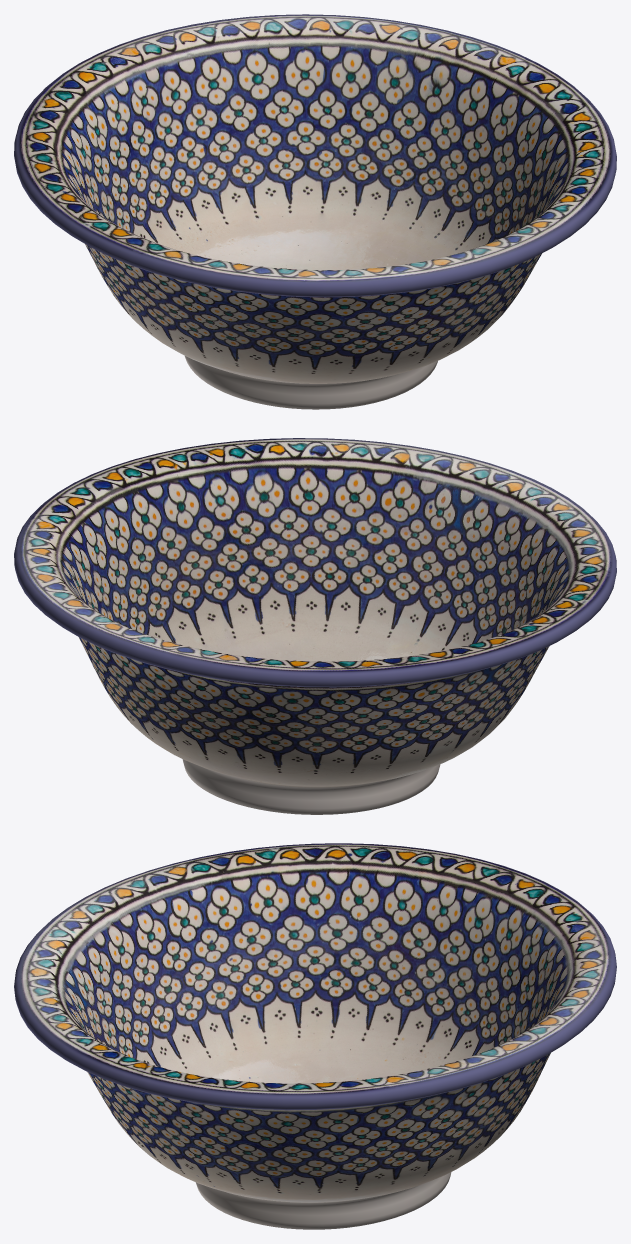
File: asset.glb
3 renders of one model, top to bottom at view 1: azimuth 30°, elevation 25°; view 2: azimuth 150°, elevation 25°; view 3: azimuth 270°, elevation 25°, orthographic.
Visible parts, largest first — view 1: 14_Tefeza; view 2: 14_Tefeza; view 3: 14_Tefeza.
Boxes of the visible parts, x1,y1,x2,y2 form: 14_Tefeza: [14, 14, 616, 409]; 14_Tefeza: [14, 438, 616, 814]; 14_Tefeza: [14, 843, 616, 1229].
Bounding box in the file's own units: 0.4211 × 0.1715 × 0.4209.
Materials: 1 (1 with a texture image).
